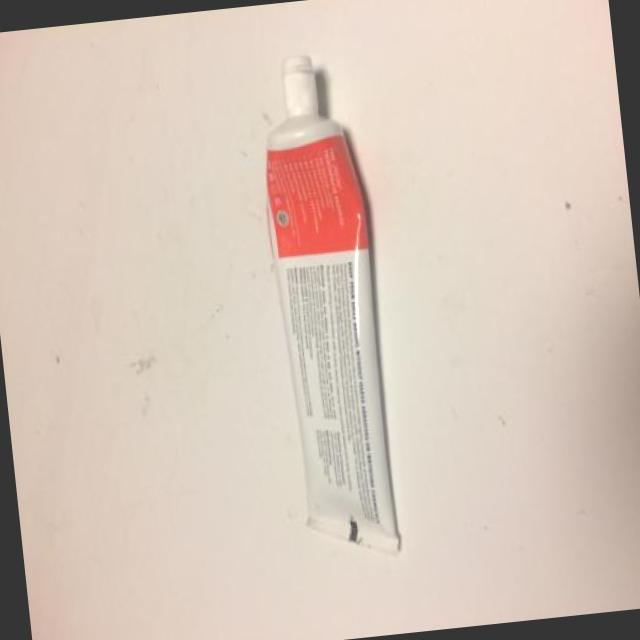Trash: (250, 52, 402, 554)
